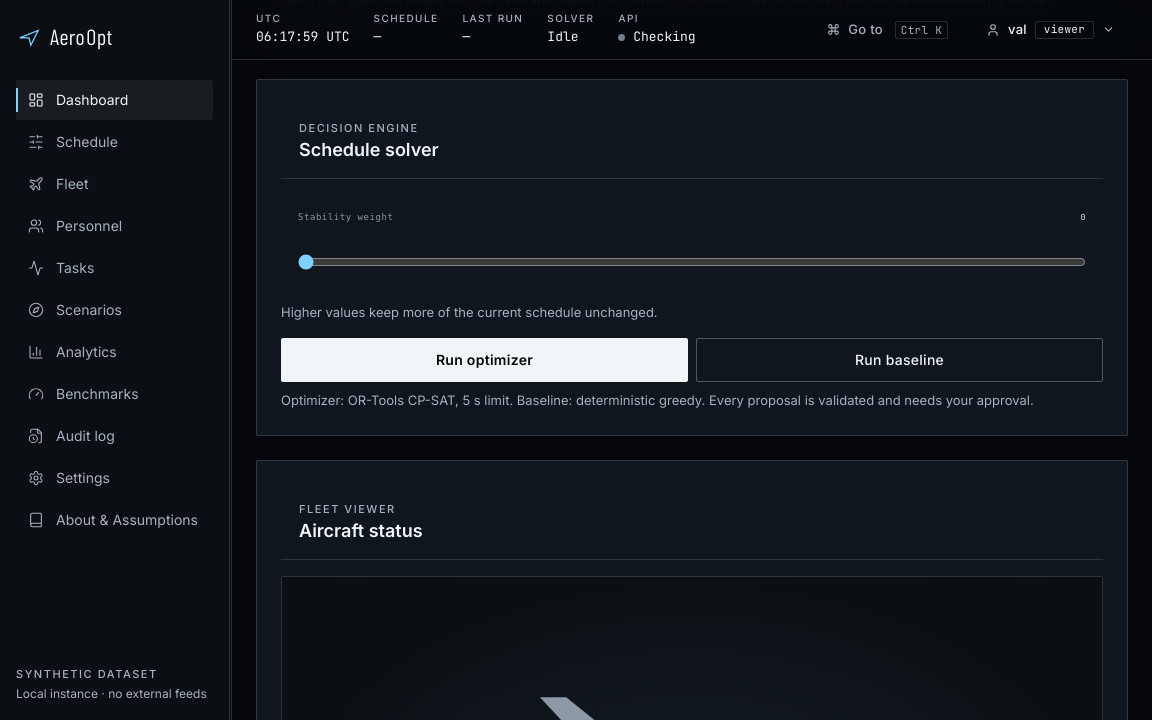
/login › blocks write actions for a viewer before any request is sent
(page scrolled)
Click the button "Run optimizer".
click(484, 360)  # box [281, 338, 688, 382]
(page scrolled)
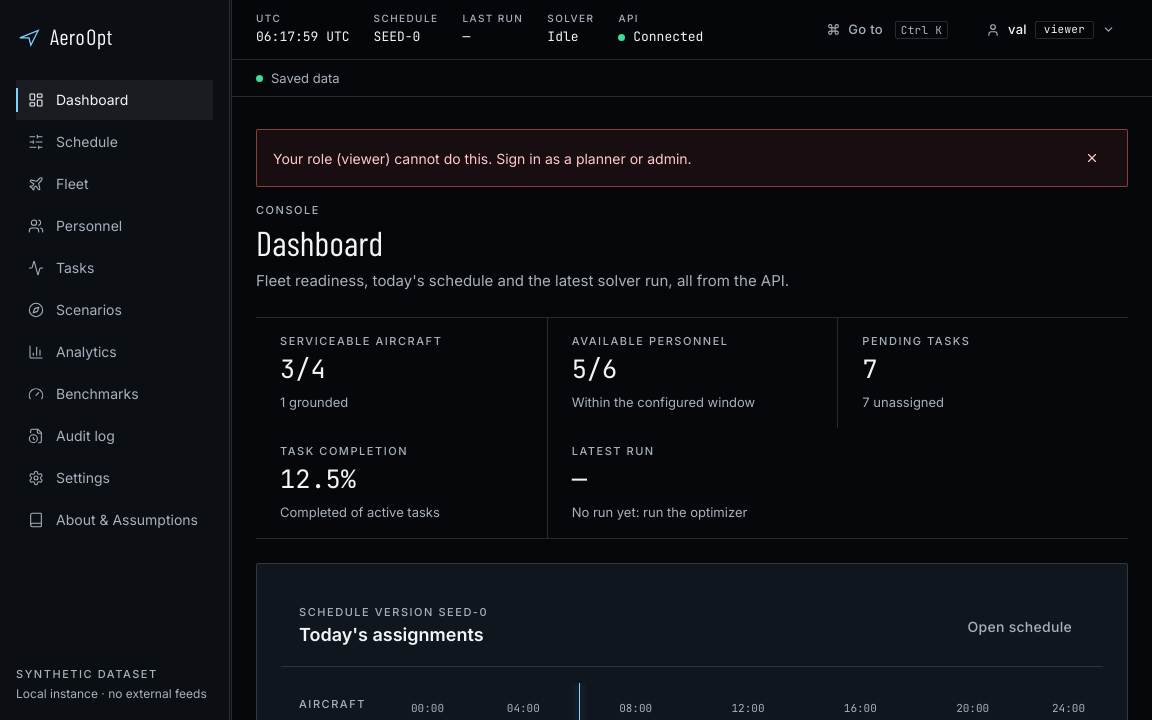
Now the text "Your role (viewer) cannot do this" is shown, box [273, 150, 692, 167]
